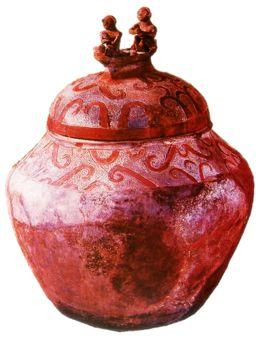manunggul_jar: (5, 8, 257, 336)
